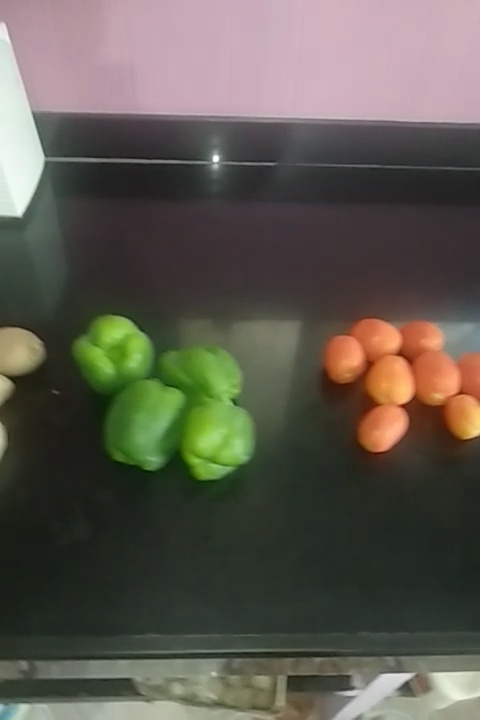capsicum: (103, 378, 184, 474), (184, 393, 256, 480), (149, 343, 246, 404), (77, 323, 154, 397)
potato: (1, 326, 47, 390)
tomato: (406, 346, 462, 406), (350, 403, 415, 454), (352, 316, 405, 361), (367, 360, 413, 409), (320, 335, 362, 384), (397, 316, 443, 359), (458, 350, 480, 406), (449, 396, 477, 438)
